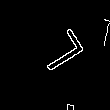L_SW: (25, 29, 85, 81)
